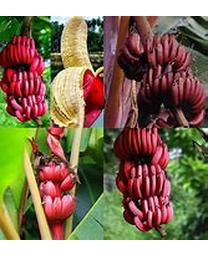banana: (119, 33, 205, 126), (113, 130, 174, 232), (53, 18, 104, 125), (2, 36, 48, 123), (34, 158, 78, 223)
